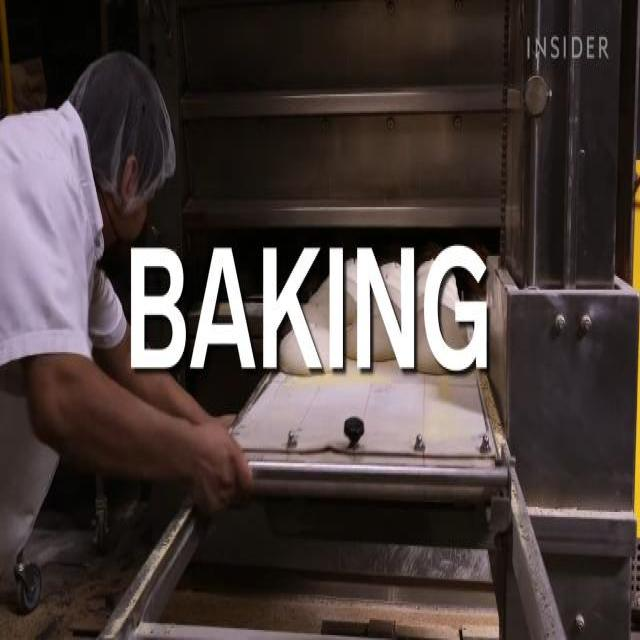hairnet: (75, 54, 174, 208)
